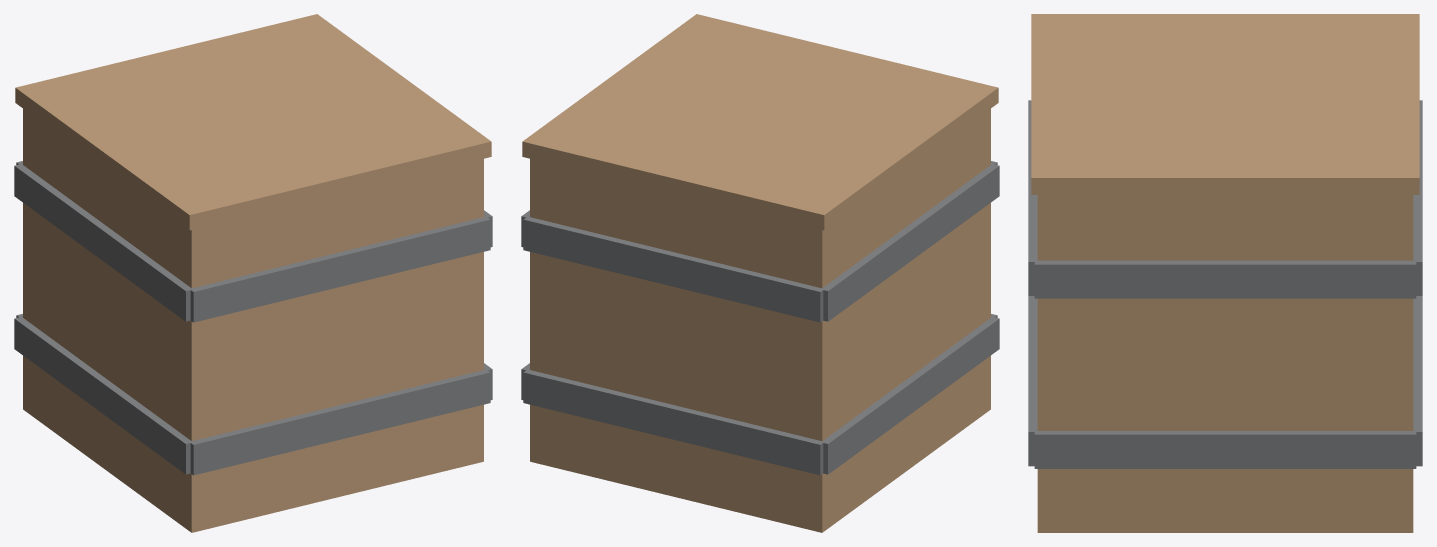
File: crates.glb
3 views of the same model, side by side, from view 1: azimuth 30°, elevation 25°; view 2: azimuth 150°, elevation 25°; view 3: azimuth 270°, elevation 25° (orthographic). The views are drawn at different scales.
Visible parts, largest first — view 1: CrateBody, CrateLid, CrateBand_0.90, CrateBand_0.30, CrateBand_0.005, CrateBand_0.002; view 2: CrateBody, CrateLid, CrateBand_0.004, CrateBand_0.001, CrateBand_0.005, CrateBand_0.002; view 3: CrateBody, CrateLid, CrateBand_0.006, CrateBand_0.003, CrateBand_0.30, CrateBand_0.001, CrateBand_0.004, CrateBand_0.90.
Part boxes in pixels (x1=…): CrateBody: x1=23, y1=109, x2=483, y2=532; CrateLid: x1=15, y1=14, x2=491, y2=230; CrateBand_0.90: x1=188, y1=215, x2=490, y2=322; CrateBand_0.30: x1=189, y1=370, x2=490, y2=475; CrateBand_0.005: x1=14, y1=164, x2=195, y2=321; CrateBand_0.002: x1=14, y1=316, x2=190, y2=474; CrateBody: x1=530, y1=109, x2=990, y2=532; CrateLid: x1=522, y1=14, x2=998, y2=230; CrateBand_0.004: x1=523, y1=215, x2=825, y2=322; CrateBand_0.001: x1=523, y1=368, x2=824, y2=475; CrateBand_0.005: x1=818, y1=164, x2=999, y2=321; CrateBand_0.002: x1=822, y1=316, x2=999, y2=474; CrateBody: x1=1037, y1=195, x2=1413, y2=532; CrateLid: x1=1031, y1=14, x2=1419, y2=194; CrateBand_0.006: x1=1034, y1=259, x2=1416, y2=298; CrateBand_0.003: x1=1034, y1=431, x2=1416, y2=468; CrateBand_0.30: x1=1028, y1=296, x2=1040, y2=466; CrateBand_0.001: x1=1410, y1=296, x2=1422, y2=466; CrateBand_0.004: x1=1411, y1=100, x2=1422, y2=295; CrateBand_0.90: x1=1028, y1=100, x2=1038, y2=295.
Bounding box in the file's own units: 1.26 × 1.26 × 1.26.
